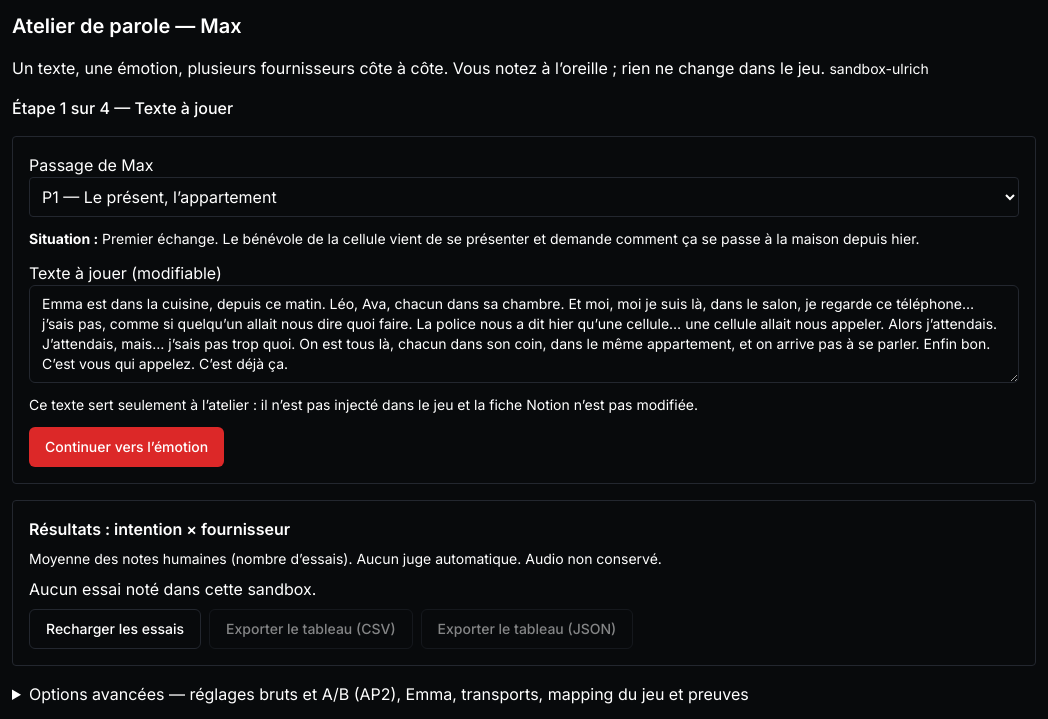
AP4 — intent workshop › flags a provider without voice as unavailable instead of simulating it
The image size is (1048, 719).
Click the button "Continuer vers l’émotion": [127, 447] box [29,427,224,467]
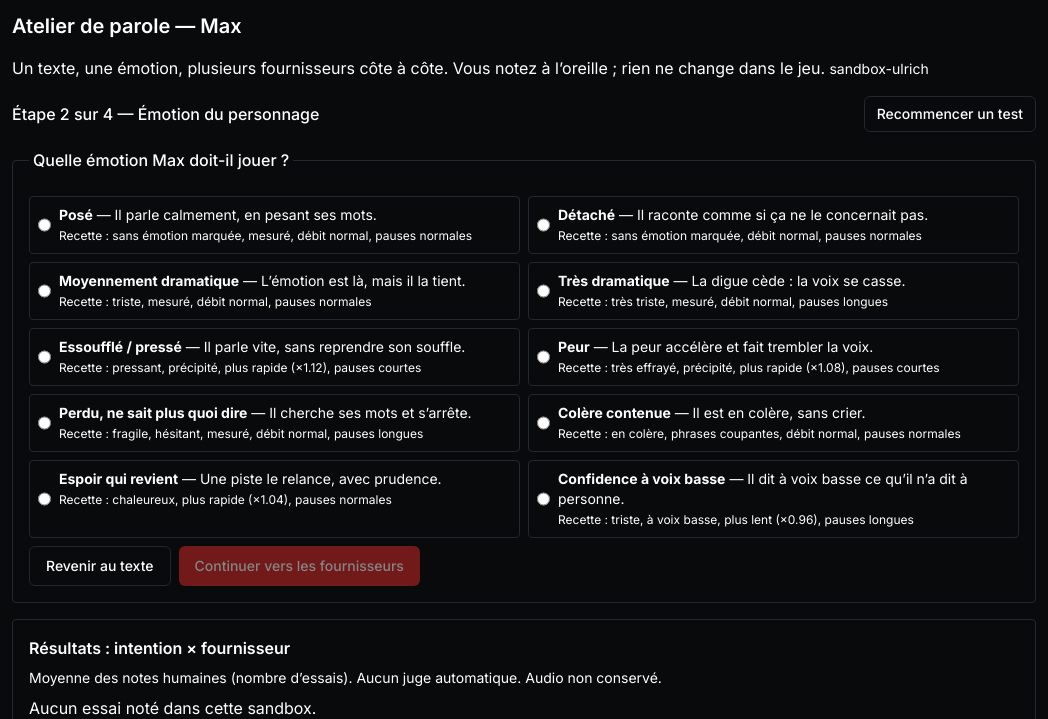
Click the radio button labelled "Posé": [44, 225] box [38,205,51,245]
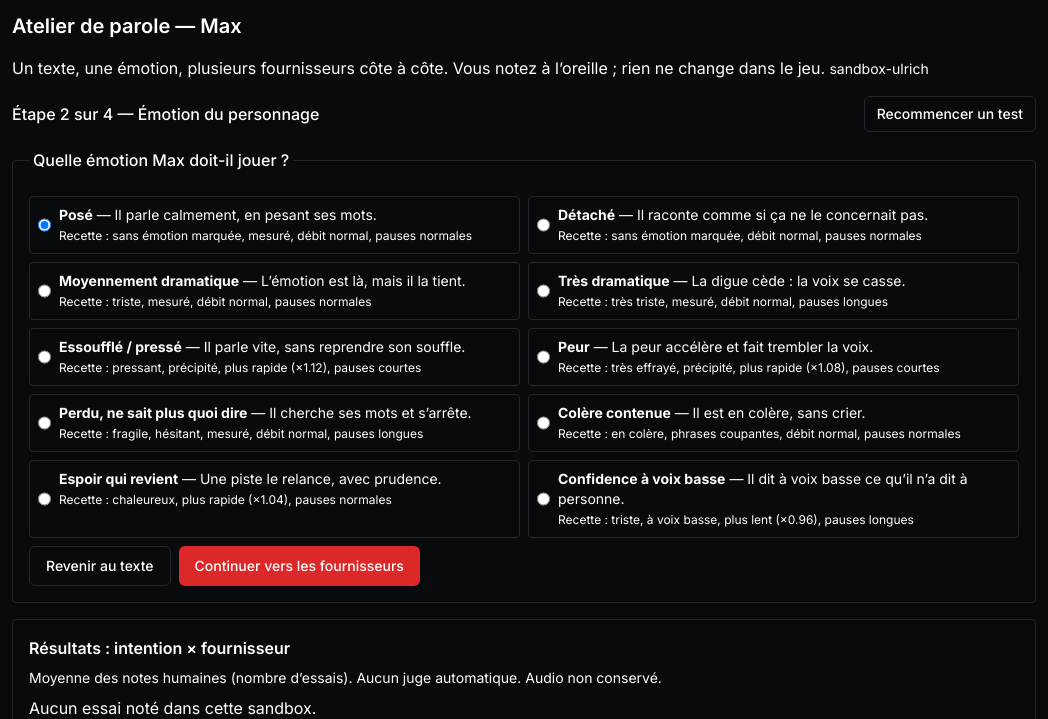
Click the button "Continuer vers les fournisseurs": [299, 566] box [178,546,420,586]
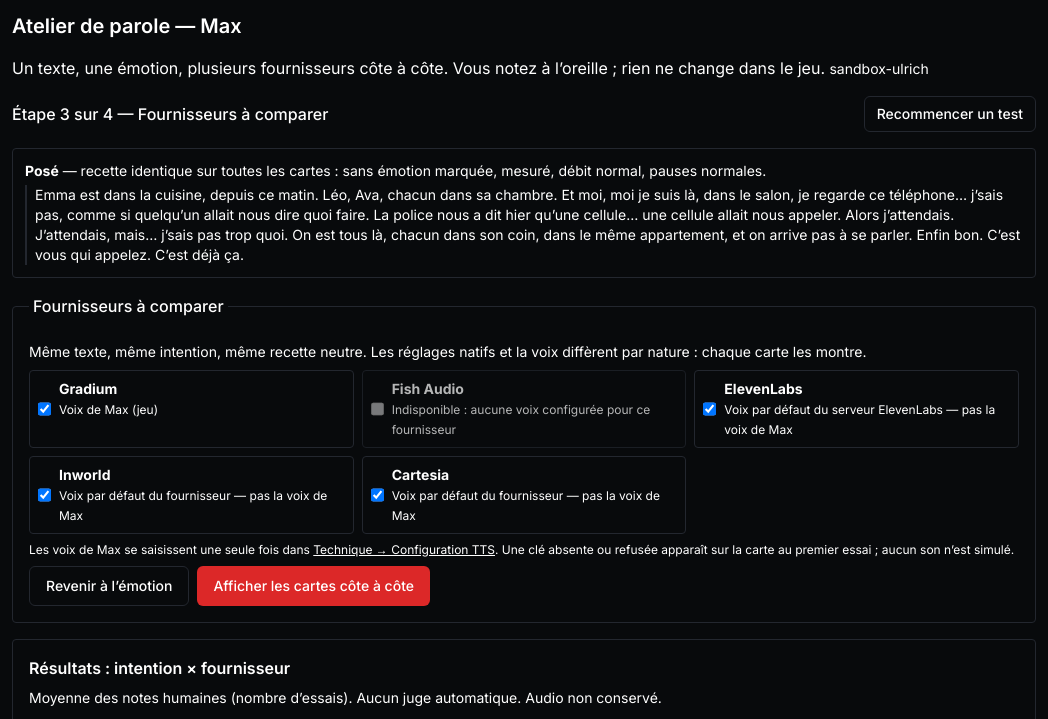
Expected: the checkbox named "Comparer Fish Audio" is disabled, [371,379,384,439]
Expected: the element named "Comparer Fish Audio" shows "Indisponible : aucune voix configurée", [392,402,650,437]
Expected: the checkbox named "Comparer Gradium" is checked, [38,379,51,439]
